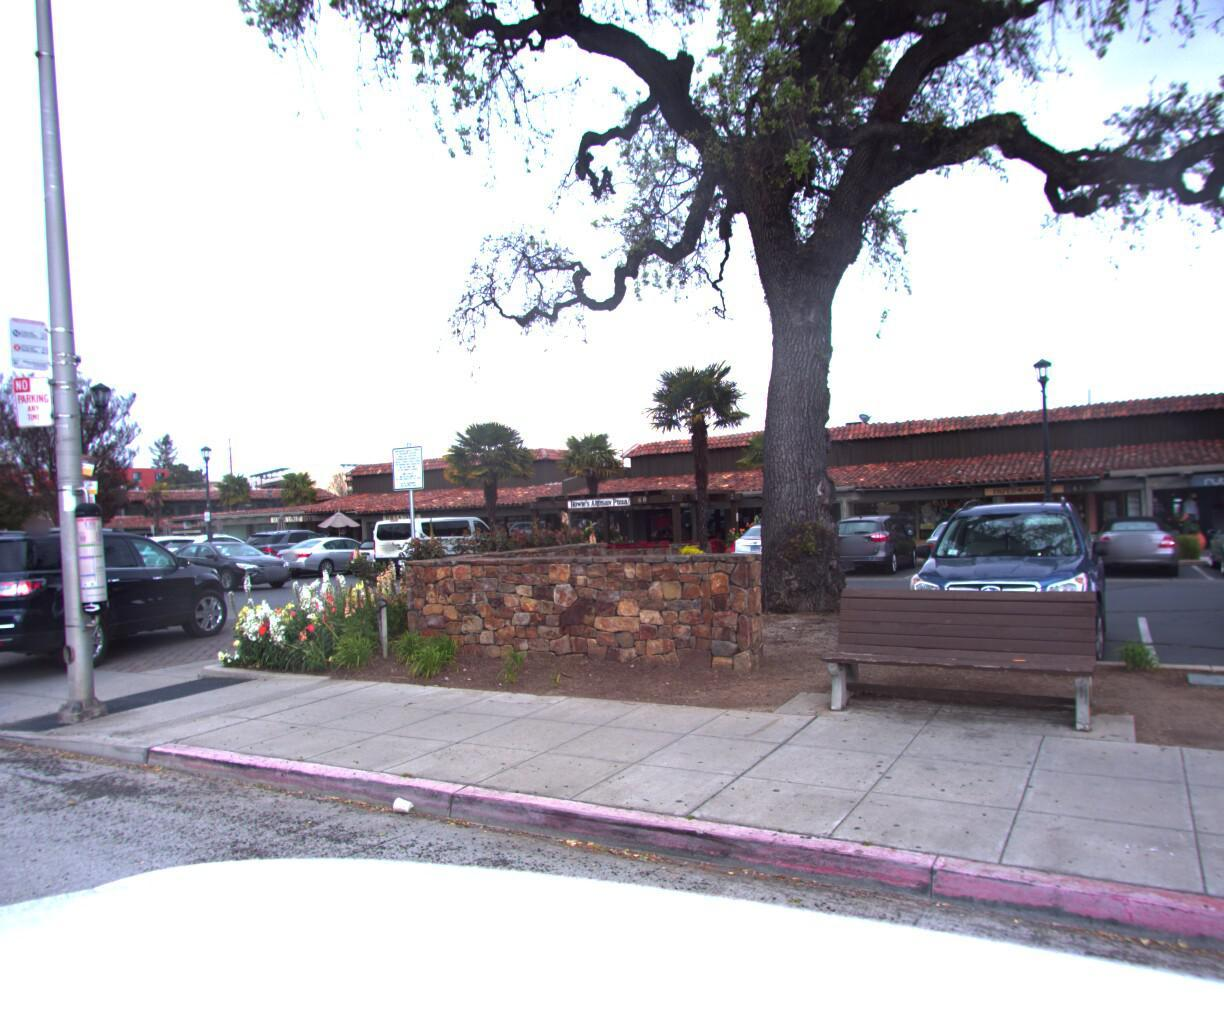car: (876, 484, 1115, 690), (0, 516, 236, 681)
